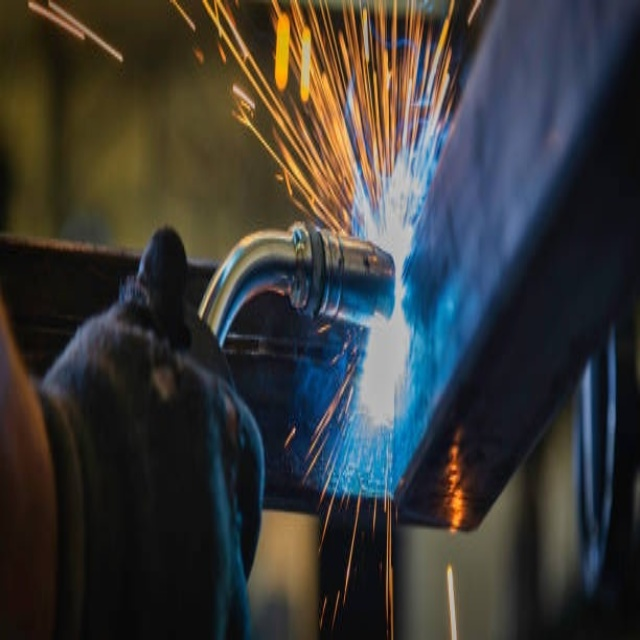Guantes: (29, 202, 273, 630)
